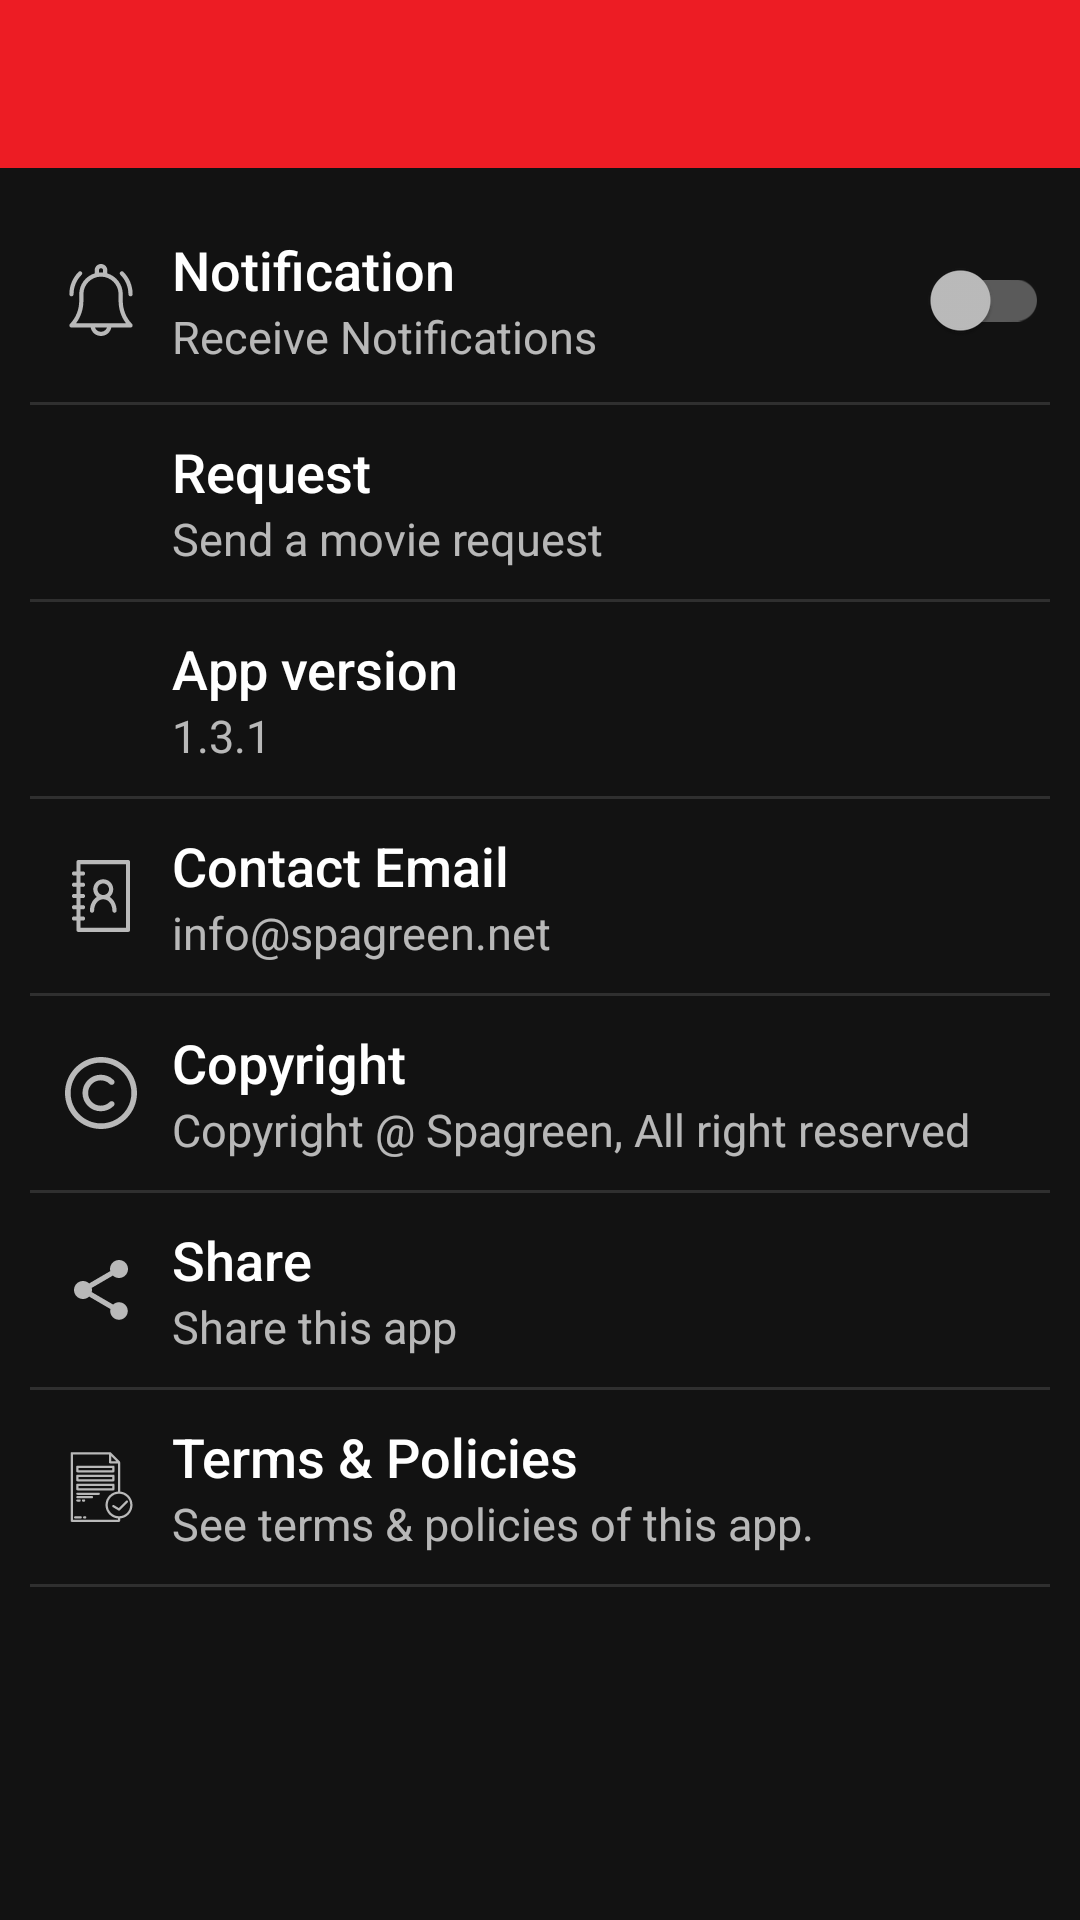

Icon bounding boxes for this 1080*1920 phone screenshot, format (x1, y1, x2, y2):
accepted: (70, 1452, 133, 1522)
phone book: (72, 860, 130, 932)
